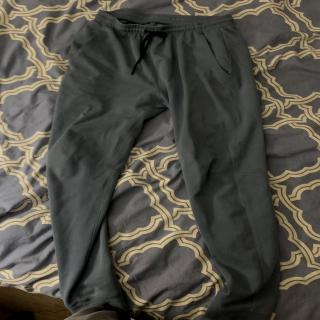Gray Sweatpants: (44, 14, 282, 320)
